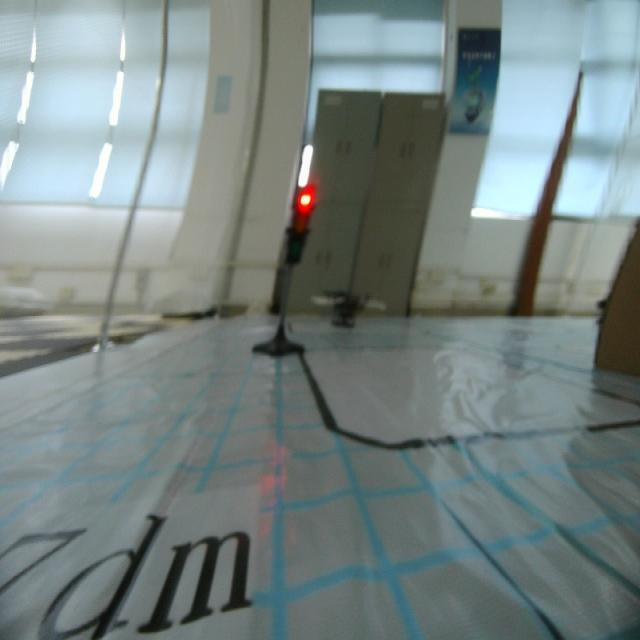red: (289, 184, 315, 269)
